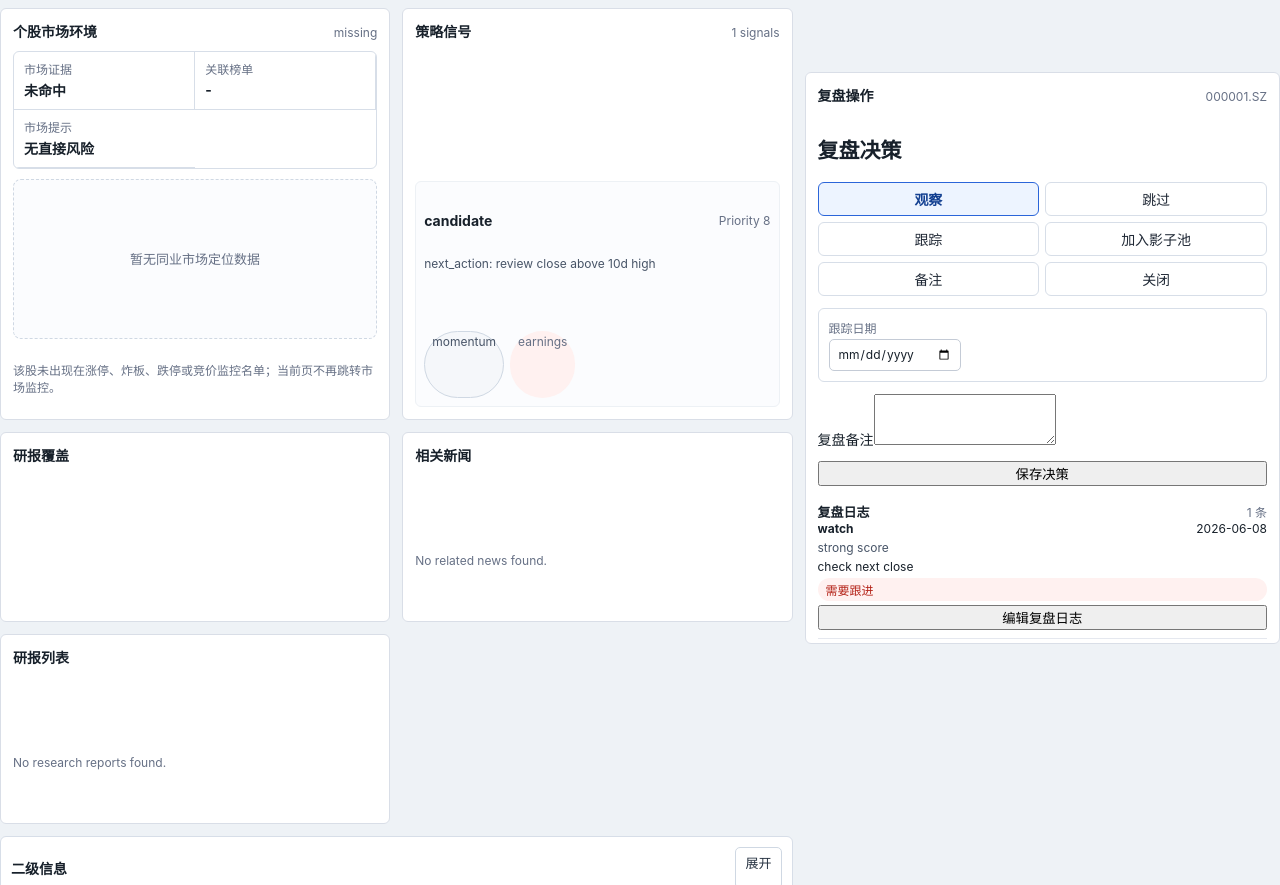
Scenario: StockWorkspace › renders the stock detail evidence hub sections
(page scrolled)
Expected: the element named "复盘决策栏" is shown, left=804, top=72, right=1279, bottom=644
Expected: the element named "Market Monitor State" is shown, left=0, top=8, right=390, bottom=420
Click the heading "二级信息" at (39, 868), box left=11, top=860, right=67, bottom=877
(page scrolled)
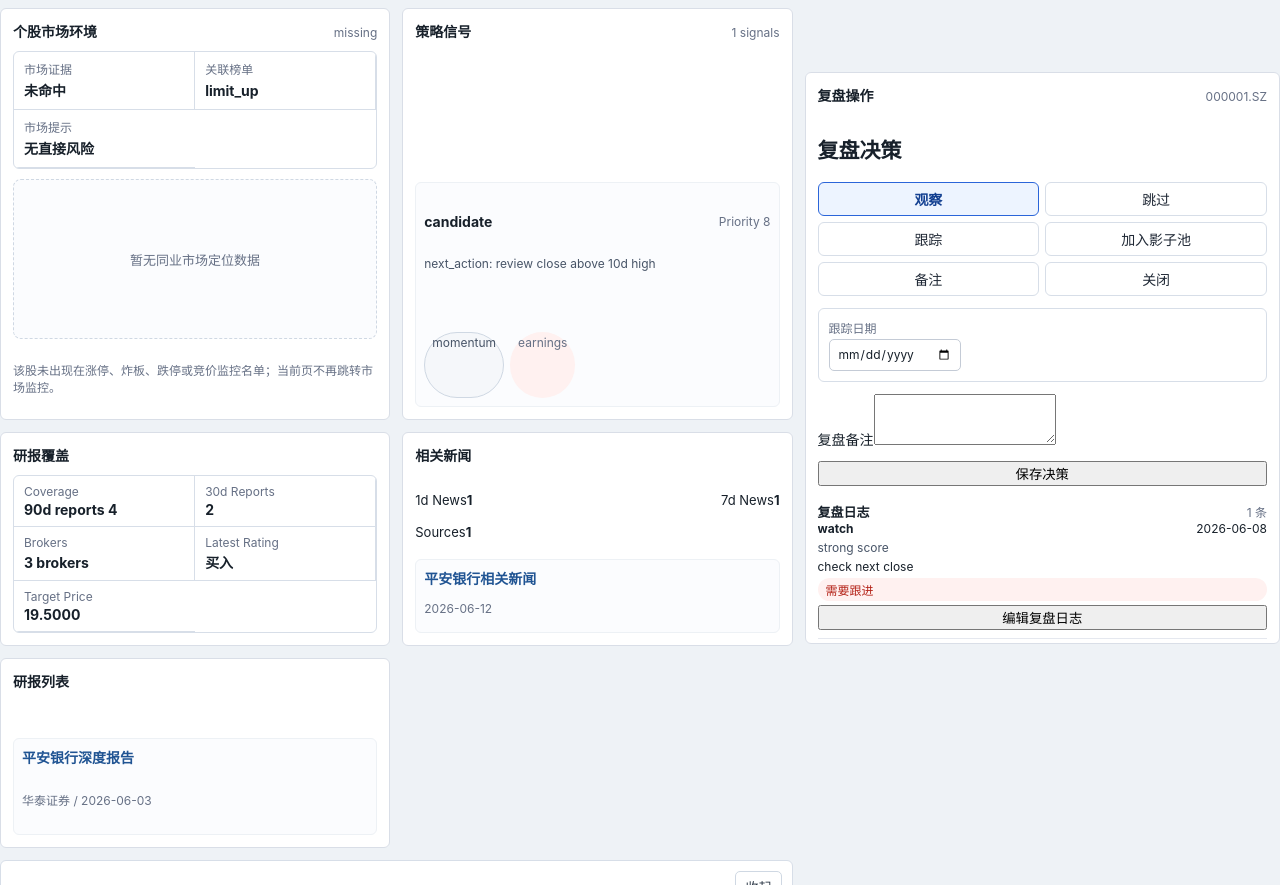
Now the text "平安银行相关新闻" is shown, box left=424, top=570, right=536, bottom=587
Now the text "平安银行深度报告" is shown, box left=22, top=749, right=134, bottom=766
Now the text "90d reports 4" is shown, box left=24, top=501, right=117, bottom=518
